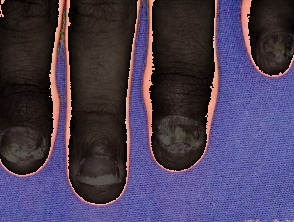Nail_psoriasis: (55, 132, 140, 216), (150, 110, 210, 167), (0, 118, 53, 175), (255, 24, 294, 70)
